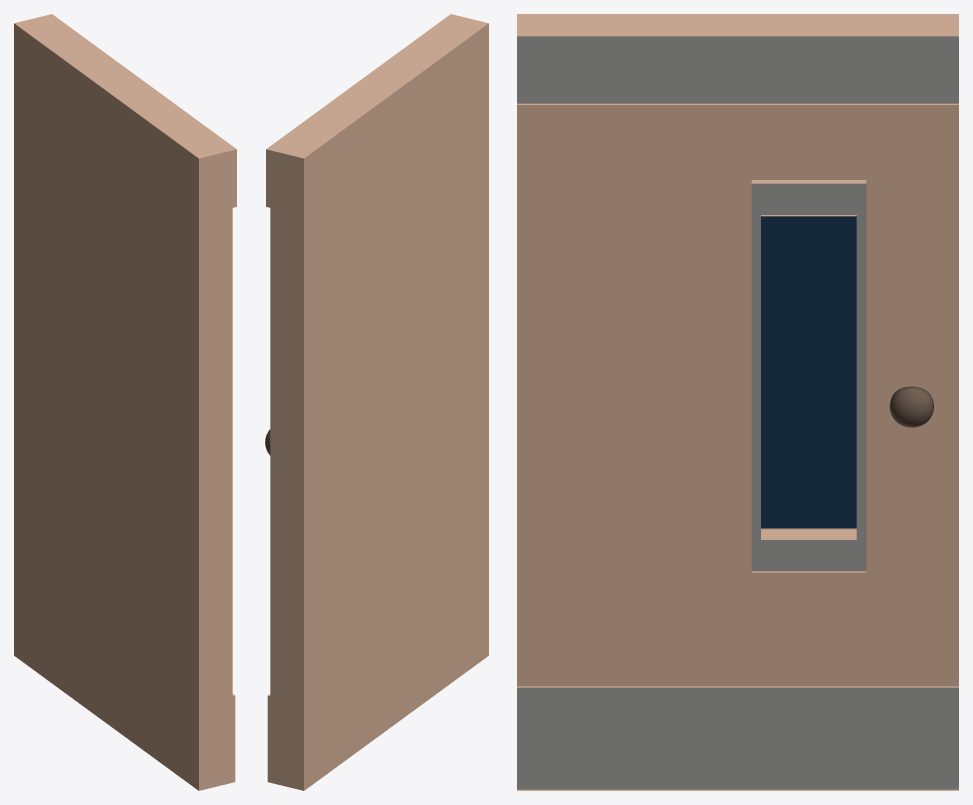
File: Porta Hospital Batente .fbx
3 views of the same model, side by side, from view 1: azimuth 30°, elevation 25°; view 2: azimuth 150°, elevation 25°; view 3: azimuth 270°, elevation 25° (orthographic). The views are drawn at different scales.
Parts seen in each view (by area): view 1: BezierCurve; view 2: BezierCurve; view 3: BezierCurve, BezierCurve.004, BezierCurve.001, BezierCurve.003, BezierCurve.002, Cube.
Boxes of the visible parts, x1,y1,x2,y2 form: BezierCurve: (14,14,236,790); BezierCurve: (266,14,488,790); BezierCurve: (517,14,958,790); BezierCurve.004: (517,687,958,789); BezierCurve.001: (517,36,958,103); BezierCurve.003: (761,216,856,528); BezierCurve.002: (751,183,866,571); Cube: (889,386,933,427).
Bounding box in the file's own units: 20.2 × 219 × 116.
